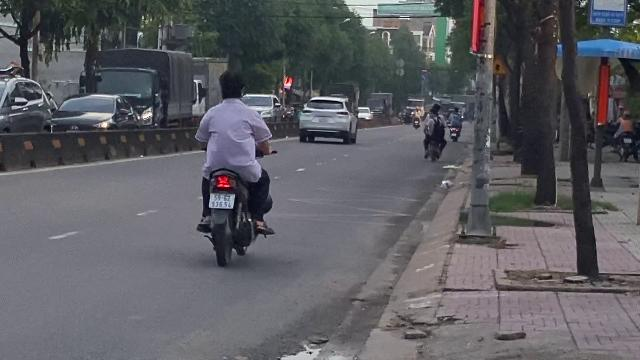licenseplate: (209, 192, 233, 208)
motorcyclist: (190, 68, 278, 264)
nohelmet: (217, 69, 247, 101)
